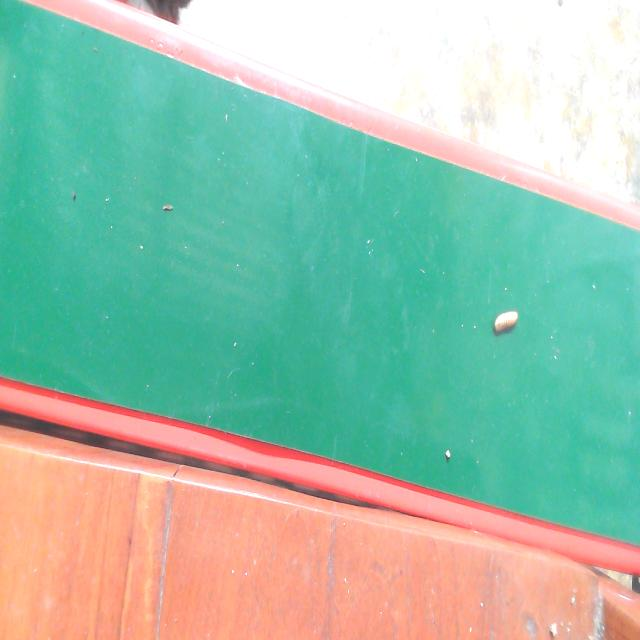Maggot: (493, 309, 521, 337)
